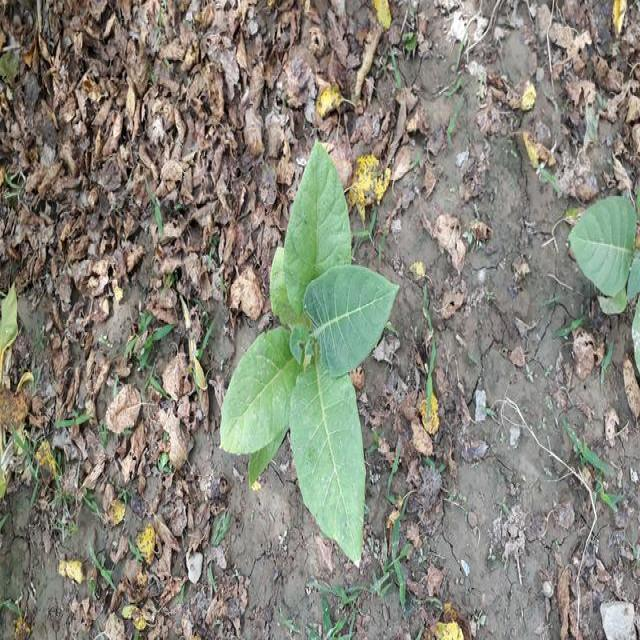crop: (220, 148, 394, 574), (571, 186, 640, 360)
